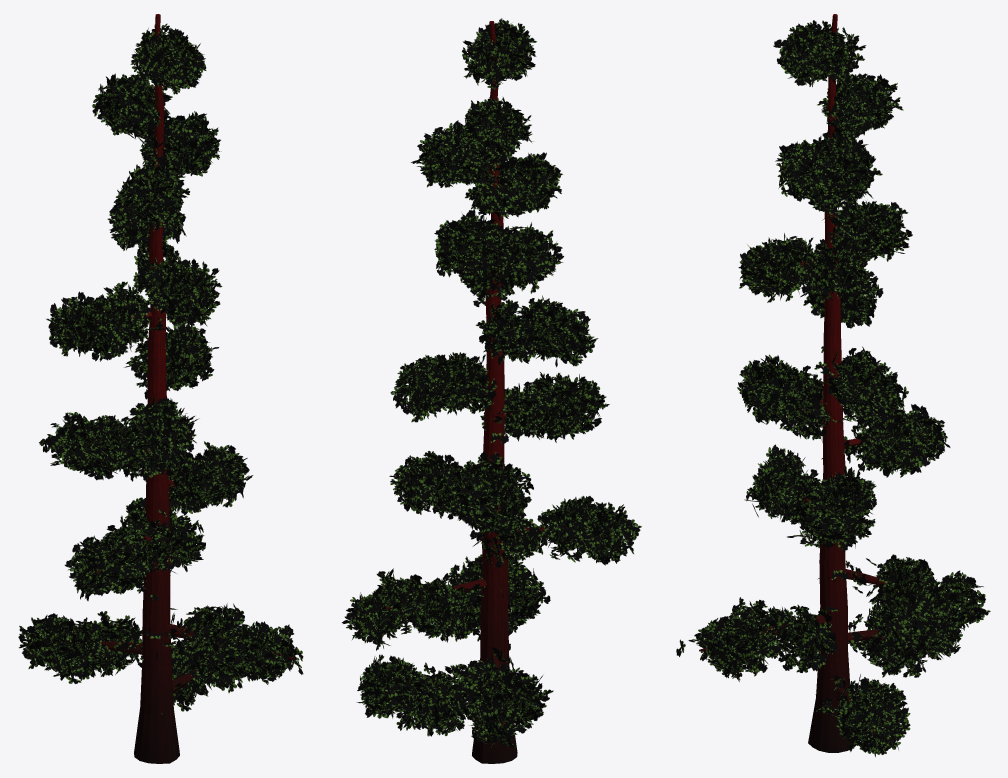
File: spruce_conifer_v01.glb
The picture shows the model from 3 angles, left to right: view 1: azimuth 30°, elevation 25°; view 2: azimuth 150°, elevation 25°; view 3: azimuth 270°, elevation 25°; orthographic projection.
Parts seen in each view (by area): view 1: spruce_conifer_v01; view 2: spruce_conifer_v01; view 3: spruce_conifer_v01.
Boxes of the visible parts, x1,y1,x2,y2 form: spruce_conifer_v01: (18,14,303,763); spruce_conifer_v01: (341,18,641,763); spruce_conifer_v01: (676,14,990,757).
Size of the model in its own units: 7.46 by 22.01 by 8.75.
2 materials, 2 textured.
